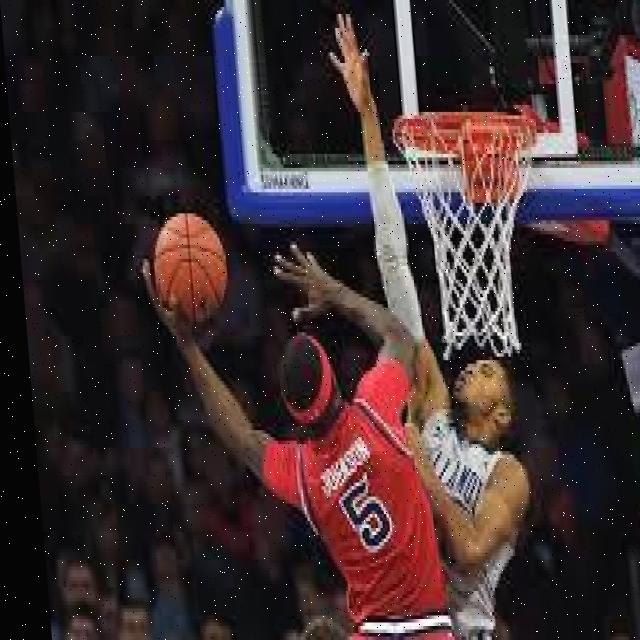basketball: (150, 214, 228, 318)
hoop: (391, 112, 552, 353)
